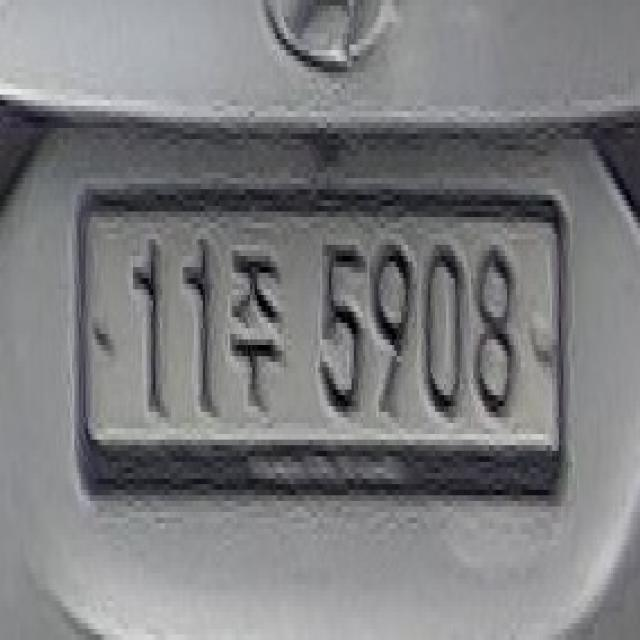0: (419, 239, 471, 434)
1: (172, 228, 226, 434), (126, 228, 174, 429)
5: (311, 228, 367, 434)
8: (473, 240, 521, 428)
9: (367, 234, 417, 434)
ju: (225, 239, 284, 423)
license_plate: (68, 167, 577, 518)
